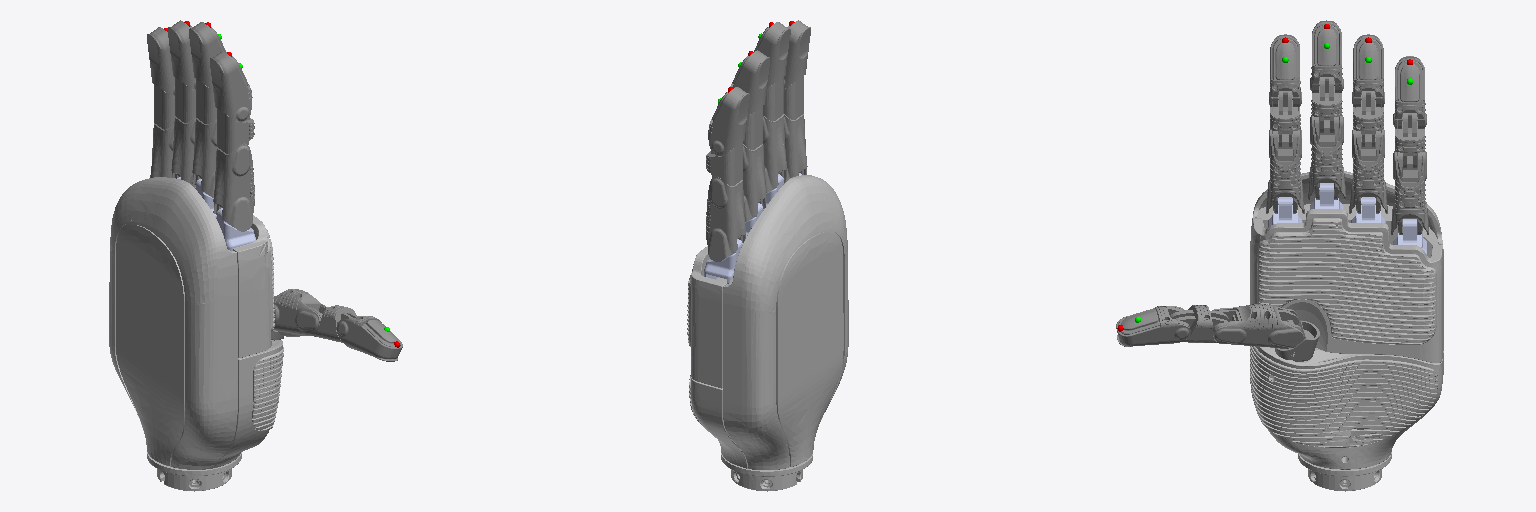
--- Render facts (derived) ---
3 views of the same robot in one strip: view 1: azimuth 30°, elevation 25°; view 2: azimuth 150°, elevation 25°; view 3: azimuth 270°, elevation 25° (orthographic).
Model dexhand021_left_simplified with 39 links and 38 joints (23 revolute, 3 prismatic, 12 fixed), rooted at root, posed every joint at zero.
Links seen in each view (by area): view 1: left_hand_base, l_f_link2_2, l_f_link2_4, l_f_link1_2, l_f_link1_4, l_f_link3_2, l_f_link3_4, l_f_link5_4, l_f_link4_4, l_f_link4_2, l_f_link2_3, l_f_link5_2 (+5 smaller); view 2: left_hand_base, l_f_link5_2, l_f_link5_4, l_f_link4_2, l_f_link4_4, l_f_link3_2, l_f_link3_4, l_f_link2_2, l_f_link2_4, l_f_link5_3, l_f_link2_3, l_f_link3_3 (+2 smaller); view 3: left_hand_base, l_f_link1_2, l_f_link4_2, l_f_link3_2, l_f_link2_2, l_f_link5_2, l_f_link1_4, l_f_link4_4, l_f_link3_4, l_f_link5_4, l_f_link2_4, l_f_link1_3 (+9 smaller).
Link boxes in pixels (bbox=[...]): left_hand_base: bbox=[109, 177, 283, 491]; l_f_link2_2: bbox=[213, 143, 254, 231]; l_f_link2_4: bbox=[210, 51, 252, 122]; l_f_link1_2: bbox=[274, 289, 328, 336]; l_f_link1_4: bbox=[336, 316, 402, 361]; l_f_link3_2: bbox=[192, 118, 216, 197]; l_f_link3_4: bbox=[189, 22, 226, 89]; l_f_link5_4: bbox=[147, 27, 174, 97]; l_f_link4_4: bbox=[168, 20, 195, 90]; l_f_link4_2: bbox=[171, 116, 195, 187]; l_f_link2_3: bbox=[217, 109, 254, 153]; l_f_link5_2: bbox=[150, 123, 173, 177]; left_hand_base: bbox=[687, 175, 848, 491]; l_f_link5_2: bbox=[706, 176, 745, 261]; l_f_link5_4: bbox=[708, 87, 749, 155]; l_f_link4_2: bbox=[743, 144, 766, 221]; l_f_link4_4: bbox=[730, 50, 769, 115]; l_f_link3_2: bbox=[763, 114, 786, 192]; l_f_link3_4: bbox=[754, 22, 790, 87]; l_f_link2_2: bbox=[784, 114, 807, 182]; l_f_link2_4: bbox=[784, 20, 810, 88]; l_f_link5_3: bbox=[706, 142, 742, 185]; l_f_link2_3: bbox=[784, 76, 803, 119]; l_f_link3_3: bbox=[763, 77, 783, 121]; left_hand_base: bbox=[1250, 171, 1443, 491]; l_f_link1_2: bbox=[1212, 304, 1303, 347]; l_f_link4_2: bbox=[1349, 129, 1387, 213]; l_f_link3_2: bbox=[1308, 115, 1345, 199]; l_f_link2_2: bbox=[1266, 129, 1304, 213]; l_f_link5_2: bbox=[1391, 151, 1428, 234]; l_f_link1_4: bbox=[1116, 306, 1190, 346]; l_f_link4_4: bbox=[1352, 34, 1384, 106]; l_f_link3_4: bbox=[1310, 20, 1343, 92]; l_f_link5_4: bbox=[1393, 56, 1426, 128]; l_f_link2_4: bbox=[1269, 34, 1301, 106]; l_f_link1_3: bbox=[1170, 305, 1228, 342].
Bounding box of the posed robot: 0.0954 × 0.1917 × 0.2954 m (x, y, z).
Meshes: 21 distinct files referenced, 21 mesh visuals loaded (21 binary STL).

robot.urdf — dexhand021_left_simplified:
<robot name="dexhand021_left_simplified">
  <mujoco>
    <compiler meshdir="./dexhand021_simplified" balanceinertia="true" discardvisual="false"/>
  </mujoco>
  <joint name="L_forearm_tx_link_joint" type="prismatic">
    <parent link="L_forearm_tx_link"/>
    <child link="L_forearm_ty_link"/>
    <axis xyz="1 0 0"/>
    <limit lower="-2.0" upper="2.0" effort="100" velocity="5"/>
  </joint>
  <link name="L_forearm_tx_link">
    <mass value="0.01"/>
  </link>
  <joint name="L_forearm_ty_link_joint" type="prismatic">
    <parent link="L_forearm_ty_link"/>
    <child link="L_forearm_tz_link"/>
    <axis xyz="0 1 0"/>
    <limit lower="-2.0" upper="2.0" effort="100" velocity="5"/>
  </joint>
  <link name="L_forearm_ty_link">
    <mass value="0.01"/>
  </link>
  <joint name="L_forearm_tz_link_joint" type="prismatic">
    <parent link="L_forearm_tz_link"/>
    <child link="L_forearm_roll_link"/>
    <axis xyz="0 0 1"/>
    <limit lower="-2.0" upper="2.0" effort="100" velocity="5"/>
  </joint>
  <link name="L_forearm_tz_link">
    <mass value="0.01"/>
  </link>
  <joint name="L_forearm_roll_link_joint" type="revolute">
    <parent link="L_forearm_roll_link"/>
    <child link="L_forearm_pitch_link"/>
    <axis xyz="0 0 1"/>
    <limit lower="-6.2" upper="6.2" effort="100" velocity="5"/>
  </joint>
  <link name="L_forearm_roll_link">
    <mass value="0.01"/>
  </link>
  <joint name="L_forearm_pitch_link_joint" type="revolute">
    <parent link="L_forearm_pitch_link"/>
    <child link="L_forearm_yaw_link"/>
    <axis xyz="1 0 0"/>
    <limit lower="-6.2" upper="6.2" effort="100" velocity="5"/>
  </joint>
  <link name="L_forearm_pitch_link">
    <mass value="0.01"/>
  </link>
  <joint name="L_forearm_yaw_link_joint" type="revolute">
    <parent link="L_forearm_yaw_link"/>
    <child link="base_dummy"/>
    <axis xyz="0 -1 0"/>
    <limit lower="-6.2" upper="6.2" effort="100" velocity="5"/>
  </joint>
  <link name="L_forearm_yaw_link">
    <mass value="0.01"/>
  </link>
  <link name="root"/>
  <joint name="root2base_link" type="fixed">
    <parent link="root"/>
    <child link="L_forearm_tx_link"/>
  </joint>
  <link name="base_dummy">
    <visual>
      <geometry>
        <sphere radius="0.008"/>
      </geometry>
    </visual>
  </link>
  <joint name="base2dummy" type="fixed">
    <parent link="base_dummy"/>
    <child link="left_hand_base"/>
    <origin xyz="0 0 -0.15"/>
  </joint>
  <link name="left_hand_base">
    <inertial>
      <origin xyz="-0.001433944695677107 -0.0010853364114898271 0.0932527558249519" rpy="0 0 0"/>
      <mass value="0.8839820474170381"/>
      <inertia ixx="0.0023497089663303983" ixy="3.010735134795366e-05" ixz="7.18351780323743e-05" iyy="0.0018053927669057562" iyz="1.049461224232639e-05" izz="0.0010075507344317002"/>
    </inertial>
    <visual>
      <origin xyz="0 0 0" rpy="0 0 0"/>
      <geometry>
        <mesh filename="package://dexhand021_simplified/left_hand_base.STL"/>
      </geometry>
      <material name="">
        <color rgba="0.75294 0.75294 0.75294 1"/>
      </material>
    </visual>
    <collision>
      <origin xyz="0 0 0" rpy="0 0 0"/>
      <geometry>
        <mesh filename="package://dexhand021_simplified/left_hand_base.STL"/>
      </geometry>
    </collision>
  </link>
  <link name="l_f_link1_1">
    <inertial>
      <origin xyz="0.001980573911977284 -0.0003519916046890215 -0.013451253689896279" rpy="0 0 0"/>
      <mass value="0.004409652627263485"/>
      <inertia ixx="3.738482685697437e-07" ixy="3.5765530920349163e-09" ixz="-3.262532585373129e-08" iyy="4.3911683059573433e-07" iyz="8.597390465190673e-09" izz="2.046798264570869e-07"/>
    </inertial>
    <visual>
      <origin xyz="0 0 0" rpy="0 0 0"/>
      <geometry>
        <mesh filename="package://dexhand021_simplified/l_f_link1_1.STL"/>
      </geometry>
      <material name="">
        <color rgba="0.6 0.6 0.6 1"/>
      </material>
    </visual>
    <collision>
      <origin xyz="0 0 0" rpy="0 0 0"/>
      <geometry>
        <mesh filename="package://dexhand021_simplified/l_f_link1_1.STL"/>
      </geometry>
    </collision>
  </link>
  <joint name="l_f_joint1_1" type="revolute">
    <origin xyz="0.032783 -0.023781 0.11211" rpy="-0.26842 -0.15197 -1.3168"/>
    <parent link="left_hand_base"/>
    <child link="l_f_link1_1"/>
    <axis xyz="0 0 1"/>
    <limit lower="0" upper="2.2" effort="10" velocity="1.5"/>
    <joint_properties damping="0.3" friction="0.5"/>
  </joint>
  <link name="l_f_link1_2">
    <inertial>
      <origin xyz="0.02143503770038841 0.00017993837719091317 0.0012981954412922612" rpy="0 0 0"/>
      <mass value="0.009951630175659748"/>
      <inertia ixx="6.208520303266731e-07" ixy="4.341657706649177e-08" ixz="1.2232041682696356e-09" iyy="1.6536689351574863e-06" iyz="2.786041312556166e-10" izz="1.70990806308645e-06"/>
    </inertial>
    <visual>
      <origin xyz="0 0 0" rpy="0 0 0"/>
      <geometry>
        <mesh filename="package://dexhand021_simplified/l_f_link1_2.STL"/>
      </geometry>
      <material name="">
        <color rgba="0.6 0.6 0.6 1"/>
      </material>
    </visual>
    <collision>
      <origin xyz="0 0 0" rpy="0 0 0"/>
      <geometry>
        <mesh filename="package://dexhand021_simplified/l_f_link1_2.STL"/>
      </geometry>
    </collision>
  </link>
  <joint name="l_f_joint1_2" type="revolute">
    <origin xyz="0.0083307 0 0" rpy="1.5708 0 0"/>
    <parent link="l_f_link1_1"/>
    <child link="l_f_link1_2"/>
    <axis xyz="0 0 1"/>
    <limit lower="0" upper="1.3" effort="10" velocity="1.5"/>
    <joint_properties damping="0.3" friction="0.6"/>
  </joint>
  <link name="l_f_link1_3">
    <inertial>
      <origin xyz="0.01345865179668865 -0.0006994150593582686 0.0012931294602007472" rpy="0 0 0"/>
      <mass value="0.004572753893586383"/>
      <inertia ixx="2.0370414391167146e-07" ixy="8.915249456798409e-09" ixz="4.09393021842538e-11" iyy="3.55991195132036e-07" iyz="5.153950326268722e-12" izz="3.797257905142519e-07"/>
    </inertial>
    <visual>
      <origin xyz="0 0 0" rpy="0 0 0"/>
      <geometry>
        <mesh filename="package://dexhand021_simplified/l_f_link1_3.STL"/>
      </geometry>
      <material name="">
        <color rgba="0.6 0.6 0.6 1"/>
      </material>
    </visual>
    <collision>
      <origin xyz="0 0 0" rpy="0 0 0"/>
      <geometry>
        <mesh filename="package://dexhand021_simplified/l_f_link1_3.STL"/>
      </geometry>
    </collision>
  </link>
  <joint name="l_f_joint1_3" type="revolute">
    <origin xyz="0.043 0 0" rpy="0 0 0"/>
    <parent link="l_f_link1_2"/>
    <child link="l_f_link1_3"/>
    <axis xyz="0 0 1"/>
    <limit lower="0" upper="1.3" effort="10" velocity="1.5"/>
    <joint_properties damping="0.3" friction="0.6"/>
  </joint>
  <link name="l_f_link1_4">
    <inertial>
      <origin xyz="0.016260909769710546 -0.0036964901321542014 0.0012930819349579075" rpy="0 0 0"/>
      <mass value="0.0061582385243810385"/>
      <inertia ixx="3.2088695067037624e-07" ixy="1.244478982731545e-07" ixz="-6.863593532289706e-11" iyy="7.410875437034691e-07" iyz="1.6028439251959763e-11" izz="7.349550496258321e-07"/>
    </inertial>
    <visual>
      <origin xyz="0 0 0" rpy="0 0 0"/>
      <geometry>
        <mesh filename="package://dexhand021_simplified/l_f_link1_4.STL"/>
      </geometry>
      <material name="">
        <color rgba="0.6 0.6 0.6 1"/>
      </material>
    </visual>
    <collision>
      <origin xyz="0 0 0" rpy="0 0 0"/>
      <geometry>
        <mesh filename="package://dexhand021_simplified/l_f_link1_4.STL"/>
      </geometry>
    </collision>
  </link>
  <joint name="l_f_joint1_4" type="revolute">
    <origin xyz="0.025 0 0" rpy="0 0 0"/>
    <parent link="l_f_link1_3"/>
    <child link="l_f_link1_4"/>
    <axis xyz="0 0 1"/>
    <limit lower="0" upper="1.3" effort="10" velocity="1.5"/>
    <joint_properties damping="0.3" friction="0.6"/>
  </joint>
  <link name="l_f_link2_1">
    <inertial>
      <origin xyz="0.007002116442824139 1.0853722106649e-07 -0.0009685598787375309" rpy="0 0 0"/>
      <mass value="0.004097010287465458"/>
      <inertia ixx="2.1788610565192378e-07" ixy="2.4846495680801306e-12" ixz="2.714078573251754e-08" iyy="3.1812222324617055e-07" iyz="-1.0859160408004426e-12" izz="2.5804083661672566e-07"/>
    </inertial>
    <visual>
      <origin xyz="0 0 0" rpy="0 0 0"/>
      <geometry>
        <mesh filename="package://dexhand021_simplified/l_f_link2_1.STL"/>
      </geometry>
      <material name="">
        <color rgba="0.792156862745098 0.819607843137255 0.933333333333333 1"/>
      </material>
    </visual>
    <collision>
      <origin xyz="0 0 0" rpy="0 0 0"/>
      <geometry>
        <mesh filename="package://dexhand021_simplified/l_f_link2_1.STL"/>
      </geometry>
    </collision>
  </link>
  <joint name="l_f_joint2_1" type="revolute">
    <origin xyz="0.006966 -0.034912 0.1644" rpy="3.1416 -1.5708 0"/>
    <parent link="left_hand_base"/>
    <child link="l_f_link2_1"/>
    <axis xyz="0 0 1"/>
    <limit lower="0" upper="0.6" effort="10" velocity="1.5"/>
    <joint_properties damping="0.3" friction="0.6"/>
  </joint>
  <link name="l_f_link2_2">
    <inertial>
      <origin xyz="0.021162223969675573 -0.0005903778748454669 2.726223716673e-06" rpy="0 0 0"/>
      <mass value="0.009428301114189446"/>
      <inertia ixx="5.548683017443144e-07" ixy="2.45444066989664e-08" ixz="1.430540045242883e-09" iyy="1.6572627703648557e-06" iyz="1.2751005734268923e-10" izz="1.6433311357230087e-06"/>
    </inertial>
    <visual>
      <origin xyz="0 0 0" rpy="0 0 0"/>
      <geometry>
        <mesh filename="package://dexhand021_simplified/l_f_link2_2.STL"/>
      </geometry>
      <material name="">
        <color rgba="0.6 0.6 0.6 1"/>
      </material>
    </visual>
    <collision>
      <origin xyz="0 0 0" rpy="0 0 0"/>
      <geometry>
        <mesh filename="package://dexhand021_simplified/l_f_link2_2.STL"/>
      </geometry>
    </collision>
  </link>
  <joint name="l_f_joint2_2" type="revolute">
    <origin xyz="0.017 0 0" rpy="1.5708 0 0"/>
    <parent link="l_f_link2_1"/>
    <child link="l_f_link2_2"/>
    <axis xyz="0 0 1"/>
    <limit lower="0" upper="1.3" effort="10" velocity="1.5"/>
    <joint_properties damping="0.3" friction="0.6"/>
  </joint>
  <link name="l_f_link2_3">
    <inertial>
      <origin xyz="0.01345865180416245 -0.0006994150597509925 7.128934054612281e-07" rpy="0 0 0"/>
      <mass value="0.004572753788929435"/>
      <inertia ixx="2.0370413474993281e-07" ixy="8.915249340053994e-09" ixz="4.093774265434148e-11" iyy="3.5599118346188935e-07" iyz="5.154014526702612e-12" izz="3.797257822783426e-07"/>
    </inertial>
    <visual>
      <origin xyz="0 0 0" rpy="0 0 0"/>
      <geometry>
        <mesh filename="package://dexhand021_simplified/l_f_link2_3.STL"/>
      </geometry>
      <material name="">
        <color rgba="0.6 0.6 0.6 1"/>
      </material>
    </visual>
    <collision>
      <origin xyz="0 0 0" rpy="0 0 0"/>
      <geometry>
        <mesh filename="package://dexhand021_simplified/l_f_link2_3.STL"/>
      </geometry>
    </collision>
  </link>
  <joint name="l_f_joint2_3" type="revolute">
    <origin xyz="0.043 0 0" rpy="0 0 0"/>
    <parent link="l_f_link2_2"/>
    <child link="l_f_link2_3"/>
    <axis xyz="0 0 1"/>
    <limit lower="0" upper="1.3" effort="10" velocity="1.5"/>
    <joint_properties damping="0.3" friction="0.6"/>
  </joint>
  <link name="l_f_link2_4">
    <inertial>
      <origin xyz="0.01626090969844342 -0.0036964901152251304 7.154849544654132e-07" rpy="0 0 0"/>
      <mass value="0.00615823855422499"/>
      <inertia ixx="3.208865437409787e-07" ixy="1.2444789924446512e-07" ixz="-6.945061269725696e-11" iyy="7.410871420215322e-07" iyz="1.488390719982738e-11" izz="7.349550560312918e-07"/>
    </inertial>
    <visual>
      <origin xyz="0 0 0" rpy="0 0 0"/>
      <geometry>
        <mesh filename="package://dexhand021_simplified/l_f_link2_4.STL"/>
      </geometry>
      <material name="">
        <color rgba="0.6 0.6 0.6 1"/>
      </material>
    </visual>
    <collision>
      <origin xyz="0 0 0" rpy="0 0 0"/>
      <geometry>
        <mesh filename="package://dexhand021_simplified/l_f_link2_4.STL"/>
      </geometry>
    </collision>
  </link>
  <joint name="l_f_joint2_4" type="revolute">
    <origin xyz="0.025 0 0" rpy="0 0 0"/>
    <parent link="l_f_link2_3"/>
    <child link="l_f_link2_4"/>
    <axis xyz="0 0 1"/>
    <limit lower="0" upper="1.3" effort="10" velocity="1.5"/>
    <joint_properties damping="0.3" friction="0.6"/>
  </joint>
  <link name="l_f_link3_1">
    <inertial>
      <origin xyz="0.00700211979781371 1.0746859203037946e-07 -0.0009685567474136043" rpy="0 0 0"/>
      <mass value="0.004097008090990198"/>
      <inertia ixx="2.1788602637389216e-07" ixy="2.4566326619806317e-12" ixz="2.7140866067939237e-08" iyy="3.181220623615796e-07" iyz="-1.1213092190128596e-12" izz="2.5804074404315193e-07"/>
    </inertial>
    <visual>
      <origin xyz="0 0 0" rpy="0 0 0"/>
      <geometry>
        <mesh filename="package://dexhand021_simplified/l_f_link3_1.STL"/>
      </geometry>
      <material name="">
        <color rgba="0.792156862745098 0.819607843137255 0.933333333333333 1"/>
      </material>
    </visual>
    <collision>
      <origin xyz="0 0 0" rpy="0 0 0"/>
      <geometry>
        <mesh filename="package://dexhand021_simplified/l_f_link3_1.STL"/>
      </geometry>
    </collision>
  </link>
  <joint name="l_f_joint3_1" type="revolute">
    <origin xyz="0.006966 -0.010612 0.1734" rpy="3.1416 -1.5708 0"/>
    <parent link="left_hand_base"/>
    <child link="l_f_link3_1"/>
    <axis xyz="0 0 1"/>
    <limit lower="-0.001" upper="0.001" effort="10" velocity="1.5"/>
    <joint_properties damping="0.3" friction="0.6"/>
  </joint>
  <link name="l_f_link3_2">
    <inertial>
      <origin xyz="0.021162223969675573 -0.0005903778748454669 2.7262237166728596e-06" rpy="0 0 0"/>
      <mass value="0.009428301114189446"/>
      <inertia ixx="5.548683017443144e-07" ixy="2.454440669896636e-08" ixz="1.4305400452428548e-09" iyy="1.6572627703648557e-06" iyz="1.275100573426928e-10" izz="1.6433311357230087e-06"/>
    </inertial>
    <visual>
      <origin xyz="0 0 0" rpy="0 0 0"/>
      <geometry>
        <mesh filename="package://dexhand021_simplified/l_f_link3_2.STL"/>
      </geometry>
      <material name="">
        <color rgba="0.6 0.6 0.6 1"/>
      </material>
    </visual>
    <collision>
      <origin xyz="0 0 0" rpy="0 0 0"/>
      <geometry>
        <mesh filename="package://dexhand021_simplified/l_f_link3_2.STL"/>
      </geometry>
    </collision>
  </link>
  <joint name="l_f_joint3_2" type="revolute">
    <origin xyz="0.017 0 0" rpy="1.5708 0 0"/>
    <parent link="l_f_link3_1"/>
    <child link="l_f_link3_2"/>
    <axis xyz="0 0 1"/>
    <limit lower="0" upper="1.3" effort="10" velocity="1.5"/>
    <joint_properties damping="0.3" friction="0.6"/>
  </joint>
  <link name="l_f_link3_3">
    <inertial>
      <origin xyz="0.013458651804082164 -0.0006994150594313945 7.128935894338023e-07" rpy="0 0 0"/>
      <mass value="0.004572753789108405"/>
      <inertia ixx="2.0370413477216486e-07" ixy="8.915249342627632e-09" ixz="4.093774366307533e-11" iyy="3.5599118347280564e-07" iyz="5.1540067724550956e-12" izz="3.7972578229189467e-07"/>
    </inertial>
    <visual>
      <origin xyz="0 0 0" rpy="0 0 0"/>
      <geometry>
        <mesh filename="package://dexhand021_simplified/l_f_link3_3.STL"/>
      </geometry>
      <material name="">
        <color rgba="0.6 0.6 0.6 1"/>
      </material>
    </visual>
    <collision>
      <origin xyz="0 0 0" rpy="0 0 0"/>
      <geometry>
        <mesh filename="package://dexhand021_simplified/l_f_link3_3.STL"/>
      </geometry>
    </collision>
  </link>
  <joint name="l_f_joint3_3" type="revolute">
    <origin xyz="0.043 0 0" rpy="0 0 0"/>
    <parent link="l_f_link3_2"/>
    <child link="l_f_link3_3"/>
    <axis xyz="0 0 1"/>
    <limit lower="0" upper="1.3" effort="10" velocity="1.5"/>
    <joint_properties damping="0.3" friction="0.6"/>
  </joint>
  <link name="l_f_link3_4">
    <inertial>
      <origin xyz="0.01626090969844342 -0.0036964901152251304 7.154849544653147e-07" rpy="0 0 0"/>
      <mass value="0.00615823855422499"/>
      <inertia ixx="3.208865437409787e-07" ixy="1.2444789924446505e-07" ixz="-6.945061269728956e-11" iyy="7.410871420215322e-07" iyz="1.488390719982273e-11" izz="7.349550560312918e-07"/>
    </inertial>
    <visual>
      <origin xyz="0 0 0" rpy="0 0 0"/>
      <geometry>
        <mesh filename="package://dexhand021_simplified/l_f_link3_4.STL"/>
      </geometry>
      <material name="">
        <color rgba="0.6 0.6 0.6 1"/>
      </material>
    </visual>
    <collision>
      <origin xyz="0 0 0" rpy="0 0 0"/>
      <geometry>
        <mesh filename="package://dexhand021_simplified/l_f_link3_4.STL"/>
      </geometry>
    </collision>
  </link>
  <joint name="l_f_joint3_4" type="revolute">
    <origin xyz="0.025 0 0" rpy="0 0 0"/>
    <parent link="l_f_link3_3"/>
    <child link="l_f_link3_4"/>
    <axis xyz="0 0 1"/>
    <limit lower="0" upper="1.3" effort="10" velocity="1.5"/>
    <joint_properties damping="0.3" friction="0.6"/>
  </joint>
  <link name="l_f_link4_1">
    <inertial>
      <origin xyz="0.007002118635297736 -1.074867170048048e-07 0.0009685578821514235" rpy="0 0 0"/>
      <mass value="0.004097008849009738"/>
      <inertia ixx="2.1788605695502027e-07" ixy="-2.457229182907897e-12" ixz="-2.7140836790424798e-08" iyy="3.181221209574222e-07" iyz="-1.120653537657895e-12" izz="2.580407759835801e-07"/>
    </inertial>
    <visual>
      <origin xyz="0 0 0" rpy="0 0 0"/>
      <geometry>
        <mesh filename="package://dexhand021_simplified/l_f_link4_1.STL"/>
      </geometry>
      <material name="">
        <color rgba="0.792156862745098 0.819607843137255 0.933333333333333 1"/>
      </material>
    </visual>
    <collision>
      <origin xyz="0 0 0" rpy="0 0 0"/>
      <geometry>
        <mesh filename="package://dexhand021_simplified/l_f_link4_1.STL"/>
      </geometry>
    </collision>
  </link>
  <joint name="l_f_joint4_1" type="revolute">
    <origin xyz="0.006966 0.013688 0.1644" rpy="0 -1.5708 0"/>
    <parent link="left_hand_base"/>
    <child link="l_f_link4_1"/>
    <axis xyz="0 0 1"/>
    <limit lower="0" upper="0.6" effort="10" velocity="1.5"/>
    <joint_properties damping="0.3" friction="0.6"/>
  </joint>
  <link name="l_f_link4_2">
    <inertial>
      <origin xyz="0.02116222396967557 -0.0005903778748454666 2.726223716673e-06" rpy="0 0 0"/>
      <mass value="0.009428301114189446"/>
      <inertia ixx="5.548683017443144e-07" ixy="2.454440669896648e-08" ixz="1.4305400452428828e-09" iyy="1.657262770364857e-06" iyz="1.2751005734269336e-10" izz="1.6433311357230093e-06"/>
    </inertial>
    <visual>
      <origin xyz="0 0 0" rpy="0 0 0"/>
      <geometry>
        <mesh filename="package://dexhand021_simplified/l_f_link4_2.STL"/>
      </geometry>
      <material name="">
        <color rgba="0.6 0.6 0.6 1"/>
      </material>
    </visual>
    <collision>
      <origin xyz="0 0 0" rpy="0 0 0"/>
      <geometry>
        <mesh filename="package://dexhand021_simplified/l_f_link4_2.STL"/>
      </geometry>
    </collision>
  </link>
  <joint name="l_f_joint4_2" type="revolute">
    <origin xyz="0.017 0 0" rpy="-1.5708 0 0"/>
    <parent link="l_f_link4_1"/>
    <child link="l_f_link4_2"/>
    <axis xyz="0 0 1"/>
    <limit lower="0" upper="1.3" effort="10" velocity="1.5"/>
    <joint_properties damping="0.3" friction="0.6"/>
  </joint>
  <link name="l_f_link4_3">
    <inertial>
      <origin xyz="0.013458651804175747 -0.0006994150597613606 7.128935762079505e-07" rpy="0 0 0"/>
      <mass value="0.004572753788921786"/>
      <inertia ixx="2.0370413474900754e-07" ixy="8.91524933970252e-09" ixz="4.093774576633741e-11" iyy="3.559911834609328e-07" iyz="5.154010184632369e-12" izz="3.7972578227773615e-07"/>
    </inertial>
    <visual>
      <origin xyz="0 0 0" rpy="0 0 0"/>
      <geometry>
        <mesh filename="package://dexhand021_simplified/l_f_link4_3.STL"/>
      </geometry>
      <material name="">
        <color rgba="0.6 0.6 0.6 1"/>
      </material>
    </visual>
    <collision>
      <origin xyz="0 0 0" rpy="0 0 0"/>
      <geometry>
        <mesh filename="package://dexhand021_simplified/l_f_link4_3.STL"/>
      </geometry>
    </collision>
  </link>
  <joint name="l_f_joint4_3" type="revolute">
    <origin xyz="0.043 0 0" rpy="0 0 0"/>
    <parent link="l_f_link4_2"/>
    <child link="l_f_link4_3"/>
    <axis xyz="0 0 1"/>
    <limit lower="0" upper="1.3" effort="10" velocity="1.5"/>
    <joint_properties damping="0.3" friction="0.6"/>
  </joint>
  <link name="l_f_link4_4">
    <inertial>
      <origin xyz="0.016260909698443425 -0.0036964901152251304 7.154849544656191e-07" rpy="0 0 0"/>
      <mass value="0.00615823855422499"/>
      <inertia ixx="3.208865437409786e-07" ixy="1.2444789924446505e-07" ixz="-6.945061269723495e-11" iyy="7.410871420215316e-07" iyz="1.488390719981614e-11" izz="7.349550560312912e-07"/>
    </inertial>
    <visual>
      <origin xyz="0 0 0" rpy="0 0 0"/>
      <geometry>
        <mesh filename="package://dexhand021_simplified/l_f_link4_4.STL"/>
      </geometry>
      <material name="">
        <color rgba="0.6 0.6 0.6 1"/>
      </material>
    </visual>
    <collision>
      <origin xyz="0 0 0" rpy="0 0 0"/>
      <geometry>
        <mesh filename="package://dexhand021_simplified/l_f_link4_4.STL"/>
      </geometry>
    </collision>
  </link>
  <joint name="l_f_joint4_4" type="revolute">
    <origin xyz="0.025 0 0" rpy="0 0 0"/>
    <parent link="l_f_link4_3"/>
    <child link="l_f_link4_4"/>
    <axis xyz="0 0 1"/>
    <limit lower="0" upper="1.3" effort="10" velocity="1.5"/>
    <joint_properties damping="0.3" friction="0.6"/>
  </joint>
  <link name="l_f_link5_1">
    <inertial>
      <origin xyz="0.007002122699750756 -1.0891508955913684e-07 0.0009685510768750549" rpy="0 0 0"/>
      <mass value="0.004097005770491854"/>
      <inertia ixx="2.1788580279235294e-07" ixy="-2.4958295432719613e-12" ixz="-2.7140989528991284e-08" iyy="3.181217888964058e-07" iyz="-1.073334974677405e-12" izz="2.5804068724112456e-07"/>
    </inertial>
    <visual>
      <origin xyz="0 0 0" rpy="0 0 0"/>
      <geometry>
        <mesh filename="package://dexhand021_simplified/l_f_link5_1.STL"/>
      </geometry>
      <material name="">
        <color rgba="0.792156862745098 0.819607843137255 0.933333333333333 1"/>
      </material>
    </visual>
    <collision>
      <origin xyz="0 0 0" rpy="0 0 0"/>
      <geometry>
        <mesh filename="package://dexhand021_simplified/l_f_link5_1.STL"/>
      </geometry>
    </collision>
  </link>
  <joint name="l_f_joint5_1" type="revolute">
    <origin xyz="0.006966 0.037988 0.1504" rpy="0 -1.5708 0"/>
    <parent link="left_hand_base"/>
    <child link="l_f_link5_1"/>
    <axis xyz="0 0 1"/>
    <limit lower="0" upper="0.6" effort="10" velocity="1.5"/>
    <joint_properties damping="0.3" friction="0.6"/>
  </joint>
  <link name="l_f_link5_2">
    <inertial>
      <origin xyz="0.02116222396967557 -0.0005903778748454669 2.72622371667293e-06" rpy="0 0 0"/>
      <mass value="0.009428301114189446"/>
      <inertia ixx="5.548683017443144e-07" ixy="2.4544406698966316e-08" ixz="1.430540045242819e-09" iyy="1.657262770364857e-06" iyz="1.2751005734269341e-10" izz="1.6433311357230093e-06"/>
    </inertial>
    <visual>
      <origin xyz="0 0 0" rpy="0 0 0"/>
      <geometry>
        <mesh filename="package://dexhand021_simplified/l_f_link5_2.STL"/>
      </geometry>
      <material name="">
        <color rgba="0.6 0.6 0.6 1"/>
      </material>
    </visual>
    <collision>
      <origin xyz="0 0 0" rpy="0 0 0"/>
      <geometry>
        <mesh filename="package://dexhand021_simplified/l_f_link5_2.STL"/>
      </geometry>
    </collision>
  </link>
  <joint name="l_f_joint5_2" type="revolute">
    <origin xyz="0.017 0 0" rpy="-1.5708 0 0"/>
    <parent link="l_f_link5_1"/>
    <child link="l_f_link5_2"/>
    <axis xyz="0 0 1"/>
    <limit lower="0" upper="1.3" effort="10" velocity="1.5"/>
    <joint_properties damping="0.3" friction="0.6"/>
  </joint>
  <link name="l_f_link5_3">
    <inertial>
      <origin xyz="0.013458651804125232 -0.0006994150597455533 7.128935022369632e-07" rpy="0 0 0"/>
      <mass value="0.004572753788933973"/>
      <inertia ixx="2.0370413475041808e-07" ixy="8.915249341012489e-09" ixz="4.093774319565261e-11" iyy="3.559911834625964e-07" iyz="5.154012037312475e-12" izz="3.7972578227884227e-07"/>
    </inertial>
    <visual>
      <origin xyz="0 0 0" rpy="0 0 0"/>
      <geometry>
        <mesh filename="package://dexhand021_simplified/l_f_link5_3.STL"/>
      </geometry>
      <material name="">
        <color rgba="0.6 0.6 0.6 1"/>
      </material>
    </visual>
    <collision>
      <origin xyz="0 0 0" rpy="0 0 0"/>
      <geometry>
        <mesh filename="package://dexhand021_simplified/l_f_link5_3.STL"/>
      </geometry>
    </collision>
  </link>
  <joint name="l_f_joint5_3" type="revolute">
    <origin xyz="0.043 0 0" rpy="0 0 0"/>
    <parent link="l_f_link5_2"/>
    <child link="l_f_link5_3"/>
    <axis xyz="0 0 1"/>
    <limit lower="0" upper="1.3" effort="10" velocity="1.5"/>
    <joint_properties damping="0.3" friction="0.6"/>
  </joint>
  <link name="l_f_link5_4">
    <inertial>
      <origin xyz="0.01626090969844342 -0.003696490115225131 7.154849544654222e-07" rpy="0 0 0"/>
      <mass value="0.00615823855422499"/>
      <inertia ixx="3.208865437409786e-07" ixy="1.2444789924446502e-07" ixz="-6.945061269726847e-11" iyy="7.410871420215322e-07" iyz="1.4883907199818555e-11" izz="7.349550560312918e-07"/>
    </inertial>
    <visual>
      <origin xyz="0 0 0" rpy="0 0 0"/>
      <geometry>
        <mesh filename="package://dexhand021_simplified/l_f_link5_4.STL"/>
      </geometry>
      <material name="">
        <color rgba="0.6 0.6 0.6 1"/>
      </material>
    </visual>
    <collision>
      <origin xyz="0 0 0" rpy="0 0 0"/>
      <geometry>
        <mesh filename="package://dexhand021_simplified/l_f_link5_4.STL"/>
      </geometry>
    </collision>
  </link>
  <joint name="l_f_joint5_4" type="revolute">
    <origin xyz="0.025 0 0" rpy="0 0 0"/>
    <parent link="l_f_link5_3"/>
    <child link="l_f_link5_4"/>
    <axis xyz="0 0 1"/>
    <limit lower="0" upper="1.3" effort="10" velocity="1.5"/>
    <joint_properties damping="0.3" friction="0.6"/>
  </joint>
  <link name="l_f_link1_tip">
    <inertial>
      <origin xyz="0 0 0" rpy="0 0 0"/>
      <mass value="0.001"/>
      <inertia ixx="1.0E-09" ixy="0.0" ixz="0.0" iyy="1.0E-09" iyz="0.0" izz="1.0E-09"/>
    </inertial>
    <visual>
      <origin xyz="0 0 0" rpy="0 0 0"/>
      <geometry>
        <sphere radius="0.002"/>
      </geometry>
      <material name="">
        <color rgba="1 0 0 1"/>
      </material>
    </visual>
    <collision>
      <origin xyz="0 0 0" rpy="0 0 0"/>
      <geometry>
        <sphere radius="0.002"/>
      </geometry>
    </collision>
  </link>
  <joint name="l_f_joint1_tip" type="fixed">
    <origin xyz="0.035 -0.004 0" rpy="0 0 0"/>
    <parent link="l_f_link1_4"/>
    <child link="l_f_link1_tip"/>
  </joint>
  <link name="l_f_link2_tip">
    <inertial>
      <origin xyz="0 0 0" rpy="0 0 0"/>
      <mass value="0.001"/>
      <inertia ixx="1.0E-09" ixy="0.0" ixz="0.0" iyy="1.0E-09" iyz="0.0" izz="1.0E-09"/>
    </inertial>
    <visual>
      <origin xyz="0 0 0" rpy="0 0 0"/>
      <geometry>
        <sphere radius="0.002"/>
      </geometry>
      <material name="">
        <color rgba="1 0 0 1"/>
      </material>
    </visual>
    <collision>
      <origin xyz="0 0 0" rpy="0 0 0"/>
      <geometry>
        <sphere radius="0.002"/>
      </geometry>
    </collision>
  </link>
  <joint name="l_f_joint2_tip" type="fixed">
    <origin xyz="0.035 -0.004 0" rpy="0 0 0"/>
    <parent link="l_f_link2_4"/>
    <child link="l_f_link2_tip"/>
  </joint>
  <link name="l_f_link3_tip">
    <inertial>
      <origin xyz="0 0 0" rpy="0 0 0"/>
      <mass value="0.001"/>
      <inertia ixx="1.0E-09" ixy="0.0" ixz="0.0" iyy="1.0E-09" iyz="0.0" izz="1.0E-09"/>
    </inertial>
    <visual>
      <origin xyz="0 0 0" rpy="0 0 0"/>
      <geometry>
        <sphere radius="0.002"/>
      </geometry>
      <material name="">
        <color rgba="1 0 0 1"/>
      </material>
    </visual>
    <collision>
      <origin xyz="0 0 0" rpy="0 0 0"/>
      <geometry>
        <sphere radius="0.002"/>
      </geometry>
    </collision>
  </link>
  <joint name="l_f_joint3_tip" type="fixed">
    <origin xyz="0.035 -0.004 0" rpy="0 0 0"/>
    <parent link="l_f_link3_4"/>
    <child link="l_f_link3_tip"/>
  </joint>
  <link name="l_f_link4_tip">
    <inertial>
      <origin xyz="0 0 0" rpy="0 0 0"/>
      <mass value="0.001"/>
      <inertia ixx="1.0E-09" ixy="0.0" ixz="0.0" iyy="1.0E-09" iyz="0.0" izz="1.0E-09"/>
    </inertial>
    <visual>
      <origin xyz="0 0 0" rpy="0 0 0"/>
      <geometry>
        <sphere radius="0.002"/>
      </geometry>
      <material name="">
        <color rgba="1 0 0 1"/>
      </material>
    </visual>
    <collision>
      <origin xyz="0 0 0" rpy="0 0 0"/>
      <geometry>
        <sphere radius="0.002"/>
      </geometry>
    </collision>
  </link>
  <joint name="l_f_joint4_tip" type="fixed">
    <origin xyz="0.035 -0.004 0" rpy="0 0 0"/>
    <parent link="l_f_link4_4"/>
    <child link="l_f_link4_tip"/>
  </joint>
  <link name="l_f_link5_tip">
    <inertial>
      <origin xyz="0 0 0" rpy="0 0 0"/>
      <mass value="0.001"/>
      <inertia ixx="1.0E-09" ixy="0.0" ixz="0.0" iyy="1.0E-09" iyz="0.0" izz="1.0E-09"/>
    </inertial>
    <visual>
      <origin xyz="0 0 0" rpy="0 0 0"/>
      <geometry>
        <sphere radius="0.002"/>
      </geometry>
      <material name="">
        <color rgba="1 0 0 1"/>
      </material>
    </visual>
    <collision>
      <origin xyz="0 0 0" rpy="0 0 0"/>
      <geometry>
        <sphere radius="0.002"/>
      </geometry>
    </collision>
  </link>
  <joint name="l_f_joint5_tip" type="fixed">
    <origin xyz="0.035 -0.004 0" rpy="0 0 0"/>
    <parent link="l_f_link5_4"/>
    <child link="l_f_link5_tip"/>
  </joint>
  <link name="l_f_link1_pad">
    <inertial>
      <origin xyz="0 0 0" rpy="0 0 0"/>
      <mass value="0.001"/>
      <inertia ixx="1.0E-09" ixy="0.0" ixz="0.0" iyy="1.0E-09" iyz="0.0" izz="1.0E-09"/>
    </inertial>
    <visual>
      <origin xyz="0 0 0" rpy="0 0 0"/>
      <geometry>
        <sphere radius="0.002"/>
      </geometry>
      <material name="">
        <color rgba="0 1 0 1"/>
      </material>
    </visual>
    <collision>
      <origin xyz="0 0 0" rpy="0 0 0"/>
      <geometry>
        <sphere radius="0.002"/>
      </geometry>
    </collision>
  </link>
  <joint name="l_f_joint1_pad" type="fixed">
    <origin xyz="0.026 0.003 0" rpy="0 0 0"/>
    <parent link="l_f_link1_4"/>
    <child link="l_f_link1_pad"/>
  </joint>
  <link name="l_f_link2_pad">
    <inertial>
      <origin xyz="0 0 0" rpy="0 0 0"/>
      <mass value="0.001"/>
      <inertia ixx="1.0E-09" ixy="0.0" ixz="0.0" iyy="1.0E-09" iyz="0.0" izz="1.0E-09"/>
    </inertial>
    <visual>
      <origin xyz="0 0 0" rpy="0 0 0"/>
      <geometry>
        <sphere radius="0.002"/>
      </geometry>
      <material name="">
        <color rgba="0 1 0 1"/>
      </material>
    </visual>
    <collision>
      <origin xyz="0 0 0" rpy="0 0 0"/>
      <geometry>
        <sphere radius="0.002"/>
      </geometry>
    </collision>
  </link>
  <joint name="l_f_joint2_pad" type="fixed">
    <origin xyz="0.026 0.003 0" rpy="0 0 0"/>
    <parent link="l_f_link2_4"/>
    <child link="l_f_link2_pad"/>
  </joint>
  <link name="l_f_link3_pad">
    <inertial>
      <origin xyz="0 0 0" rpy="0 0 0"/>
      <mass value="0.001"/>
      <inertia ixx="1.0E-09" ixy="0.0" ixz="0.0" iyy="1.0E-09" iyz="0.0" izz="1.0E-09"/>
    </inertial>
    <visual>
      <origin xyz="0 0 0" rpy="0 0 0"/>
      <geometry>
        <sphere radius="0.002"/>
      </geometry>
      <material name="">
        <color rgba="0 1 0 1"/>
      </material>
    </visual>
    <collision>
      <origin xyz="0 0 0" rpy="0 0 0"/>
      <geometry>
        <sphere radius="0.002"/>
      </geometry>
    </collision>
  </link>
  <joint name="l_f_joint3_pad" type="fixed">
    <origin xyz="0.026 0.003 0" rpy="0 0 0"/>
    <parent link="l_f_link3_4"/>
    <child link="l_f_link3_pad"/>
  </joint>
  <link name="l_f_link4_pad">
    <inertial>
      <origin xyz="0 0 0" rpy="0 0 0"/>
      <mass value="0.001"/>
      <inertia ixx="1.0E-09" ixy="0.0" ixz="0.0" iyy="1.0E-09" iyz="0.0" izz="1.0E-09"/>
    </inertial>
    <visual>
      <origin xyz="0 0 0" rpy="0 0 0"/>
      <geometry>
        <sphere radius="0.002"/>
      </geometry>
      <material name="">
        <color rgba="0 1 0 1"/>
      </material>
    </visual>
    <collision>
      <origin xyz="0 0 0" rpy="0 0 0"/>
      <geometry>
        <sphere radius="0.002"/>
      </geometry>
    </collision>
  </link>
  <joint name="l_f_joint4_pad" type="fixed">
    <origin xyz="0.026 0.003 0" rpy="0 0 0"/>
    <parent link="l_f_link4_4"/>
    <child link="l_f_link4_pad"/>
  </joint>
  <link name="l_f_link5_pad">
    <inertial>
      <origin xyz="0 0 0" rpy="0 0 0"/>
      <mass value="0.001"/>
      <inertia ixx="1.0E-09" ixy="0.0" ixz="0.0" iyy="1.0E-09" iyz="0.0" izz="1.0E-09"/>
    </inertial>
    <visual>
      <origin xyz="0 0 0" rpy="0 0 0"/>
      <geometry>
        <sphere radius="0.002"/>
      </geometry>
      <material name="">
        <color rgba="0 1 0 1"/>
      </material>
    </visual>
    <collision>
      <origin xyz="0 0 0" rpy="0 0 0"/>
      <geometry>
        <sphere radius="0.002"/>
      </geometry>
    </collision>
  </link>
  <joint name="l_f_joint5_pad" type="fixed">
    <origin xyz="0.026 0.003 0" rpy="0 0 0"/>
    <parent link="l_f_link5_4"/>
    <child link="l_f_link5_pad"/>
  </joint>
</robot>
